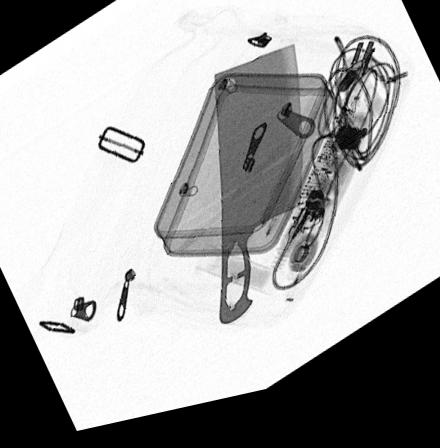Knife: (212, 55, 303, 335)
